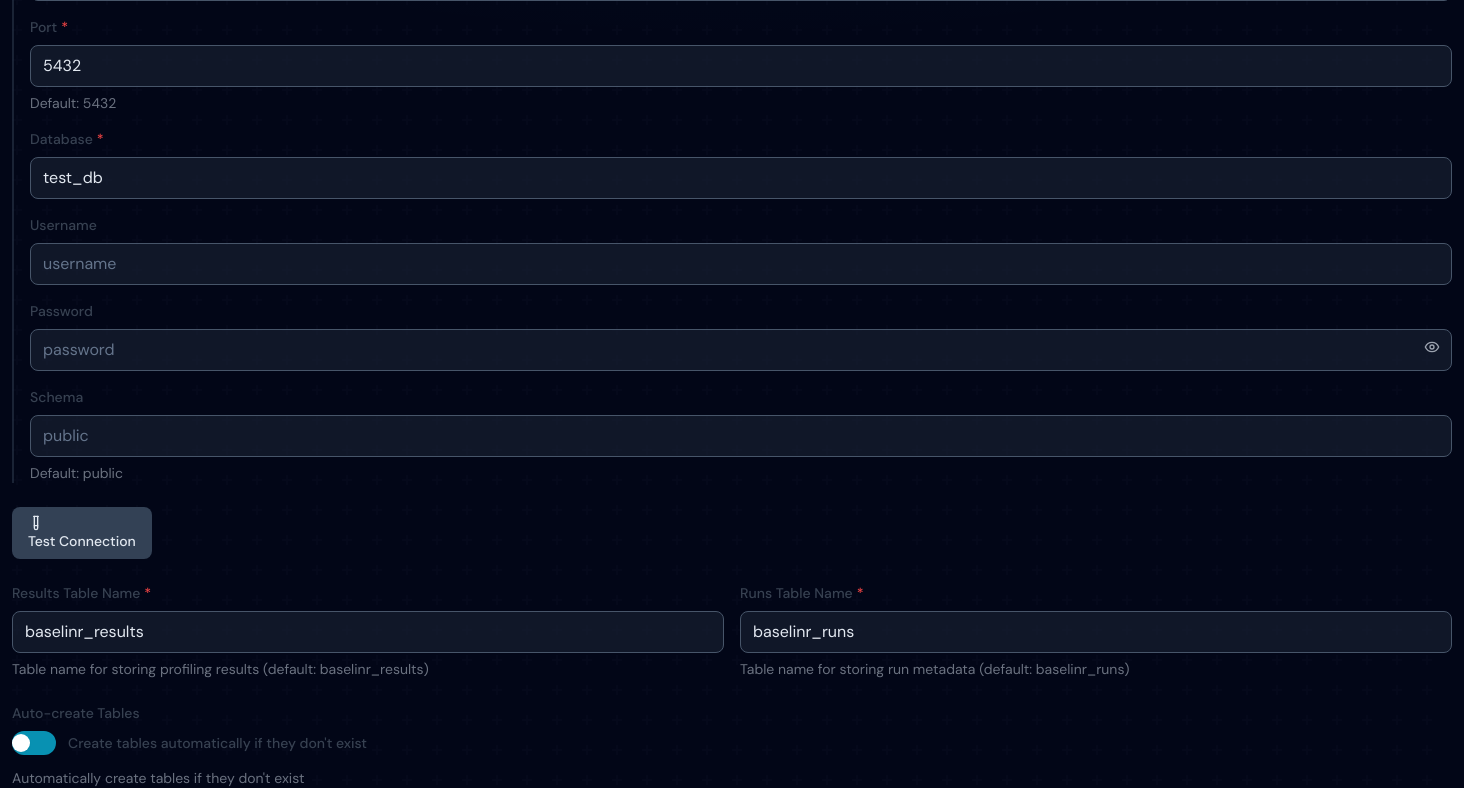
Scenario: StorageConfig › displays test error message
(page scrolled)
Step 1. Click the button "Test Connection" → (82, 533), box [12,507,152,559]
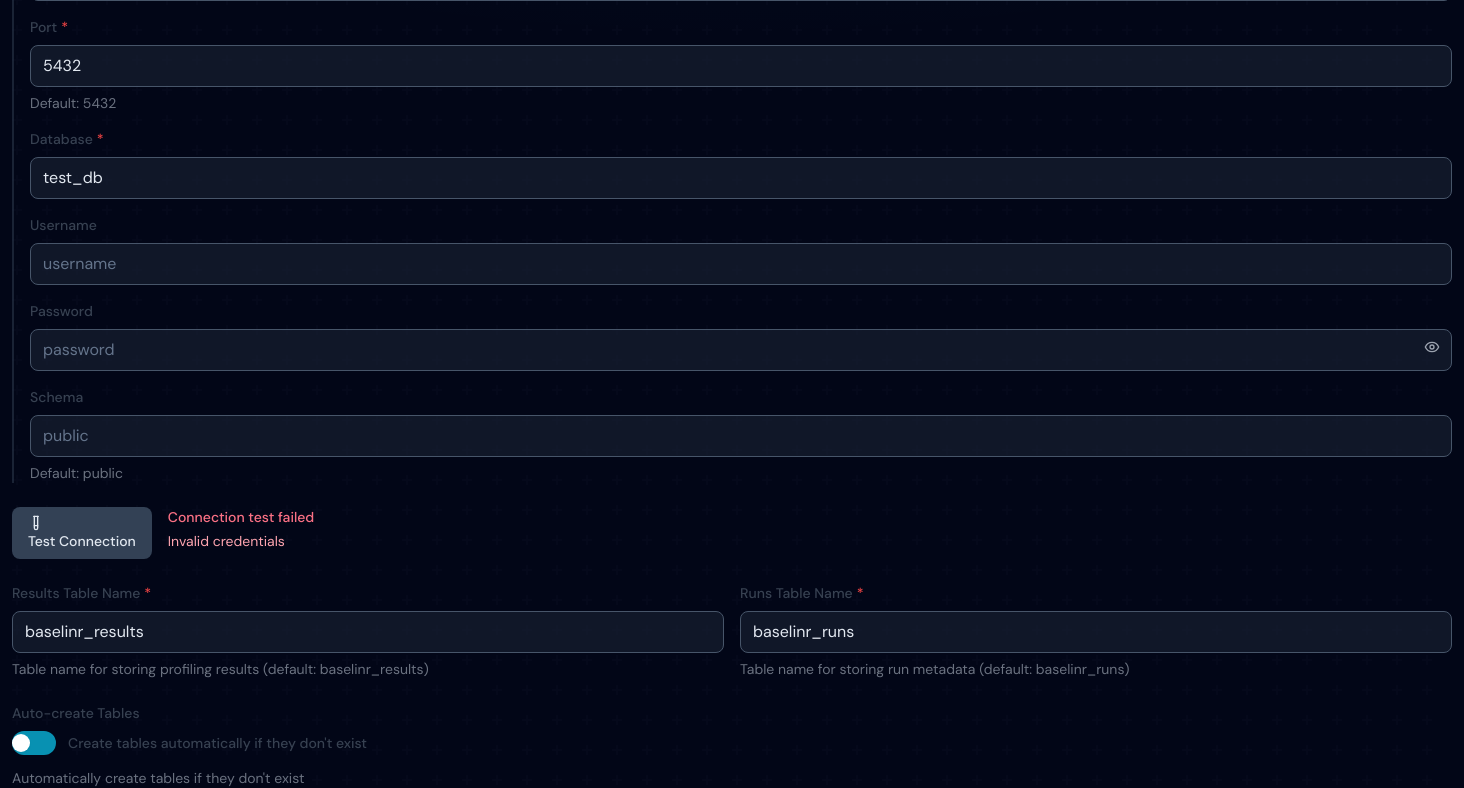
Result: the text "Connection test failed" is shown at [168,508,314,526]
Result: the text "Invalid credentials" is shown at [168,532,285,550]
